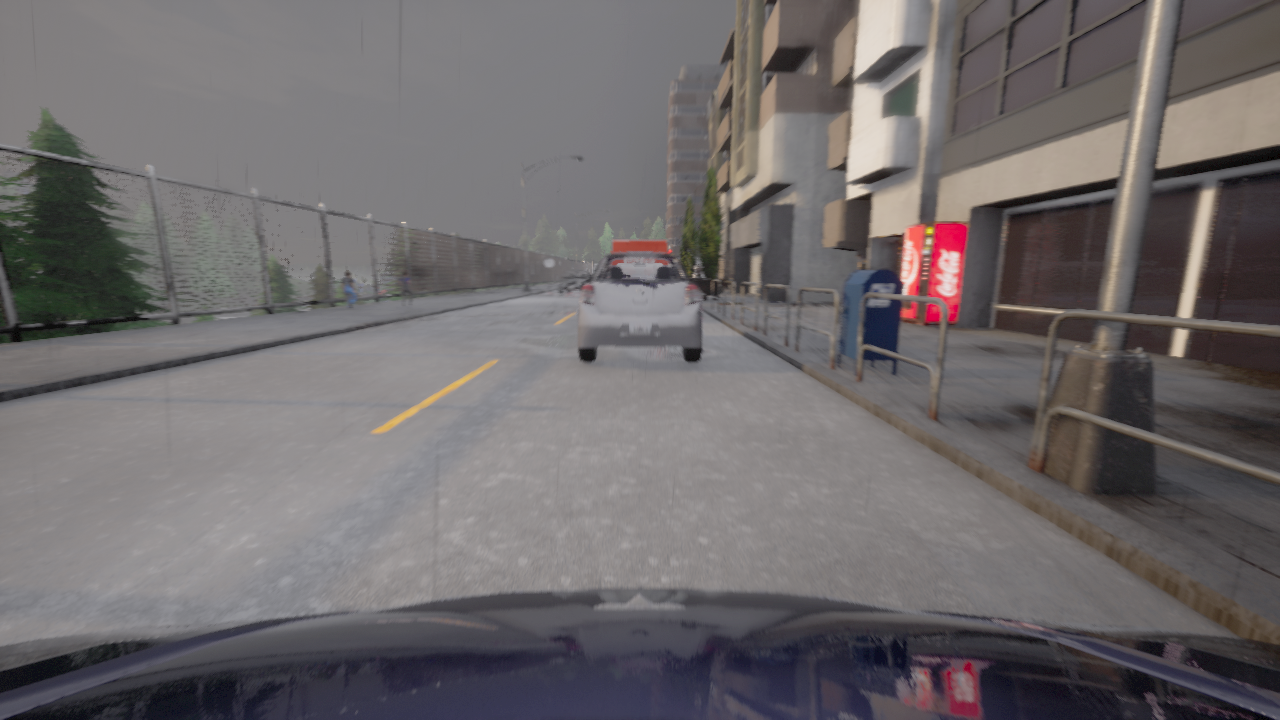cyclist: (0, 588, 1279, 719), (577, 252, 702, 362), (557, 269, 591, 293), (611, 239, 667, 252)
pedestrian: (341, 271, 356, 308), (399, 270, 412, 305), (695, 265, 701, 277)
